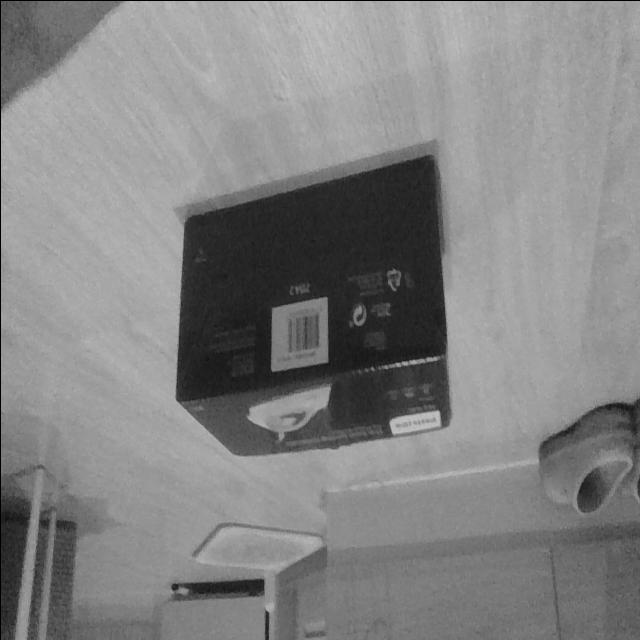IRON: (173, 150, 453, 460)
